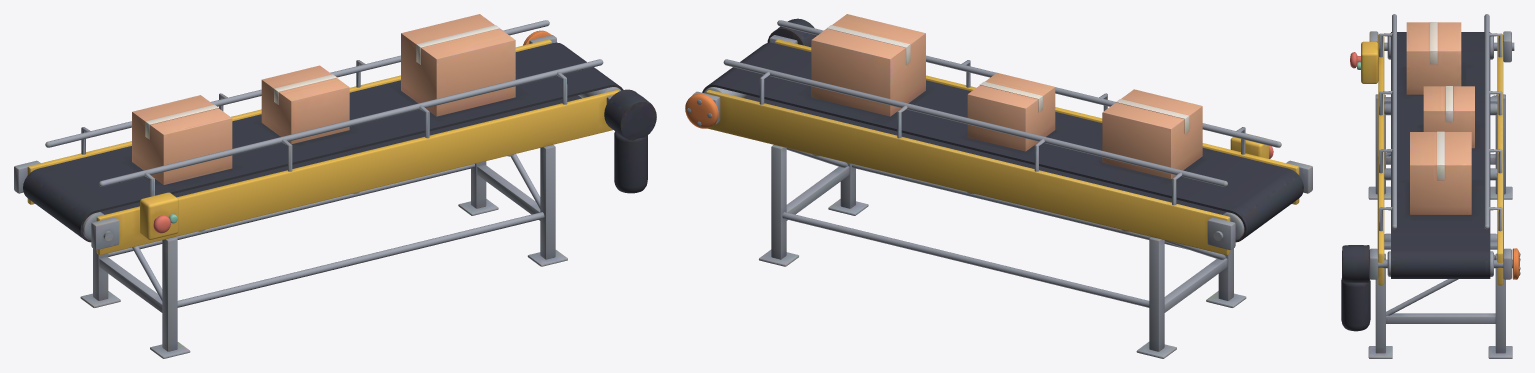
The model's file is conveyor-belt.glb.
3 renders of one model, left to right at view 1: azimuth 30°, elevation 25°; view 2: azimuth 150°, elevation 25°; view 3: azimuth 270°, elevation 25°, orthographic. The views are drawn at different scales.
Parts seen in each view (by area): view 1: conveyor-belt_body; view 2: conveyor-belt_body, conveyor-belt_drum; view 3: conveyor-belt_body, conveyor-belt_drum.
Boxes of the visible parts, x1,y1,x2,y2 form: conveyor-belt_body: [14, 14, 656, 358]; conveyor-belt_body: [693, 14, 1312, 358]; conveyor-belt_drum: [685, 87, 748, 128]; conveyor-belt_body: [1341, 14, 1514, 358]; conveyor-belt_drum: [1378, 248, 1520, 279].
Size of the model in its own units: 3.2 by 1.17 by 1.05.
2 materials, 2 textured.
